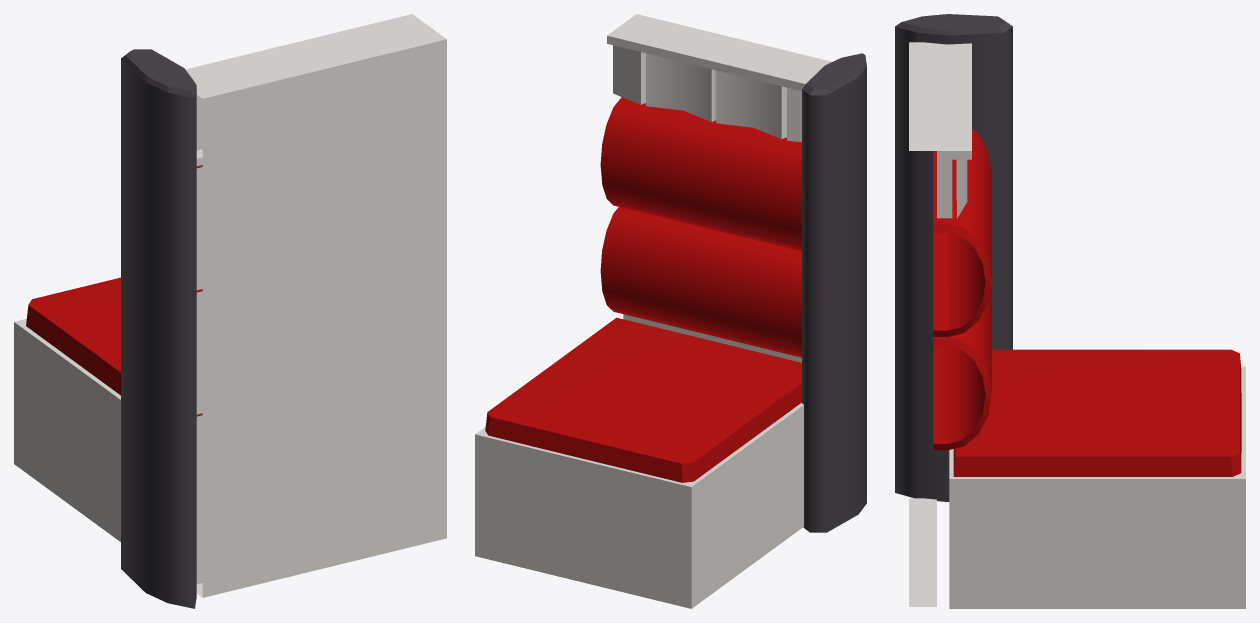
Rendered from SM_seat_mod_01.fbx.
3 renders of one model, left to right at view 1: azimuth 30°, elevation 25°; view 2: azimuth 150°, elevation 25°; view 3: azimuth 270°, elevation 25°, orthographic. The views are drawn at different scales.
Parts seen in each view (by area): view 1: seat_mod_01; view 2: seat_mod_01; view 3: seat_mod_01.
Boxes of the visible parts, x1=… form: seat_mod_01: x1=14, y1=14, x2=446, y2=608; seat_mod_01: x1=475, y1=14, x2=866, y2=608; seat_mod_01: x1=895, y1=14, x2=1245, y2=608.
Size of the model in its own units: 58.56 by 101 by 68.47.
